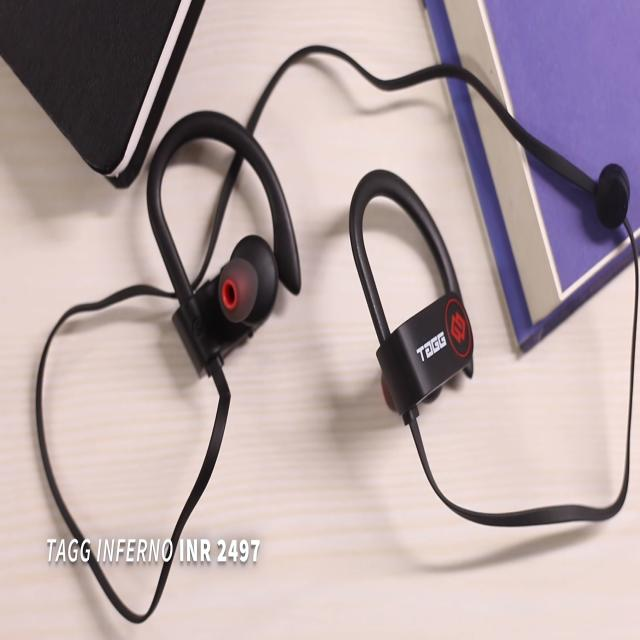Neckband: (35, 41, 640, 626)
